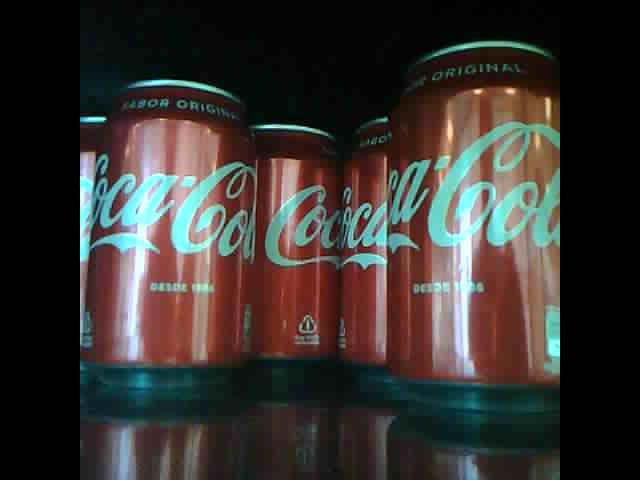coca cola: (386, 31, 559, 395), (99, 67, 256, 381), (249, 120, 339, 366), (334, 108, 389, 376), (79, 112, 107, 386)
